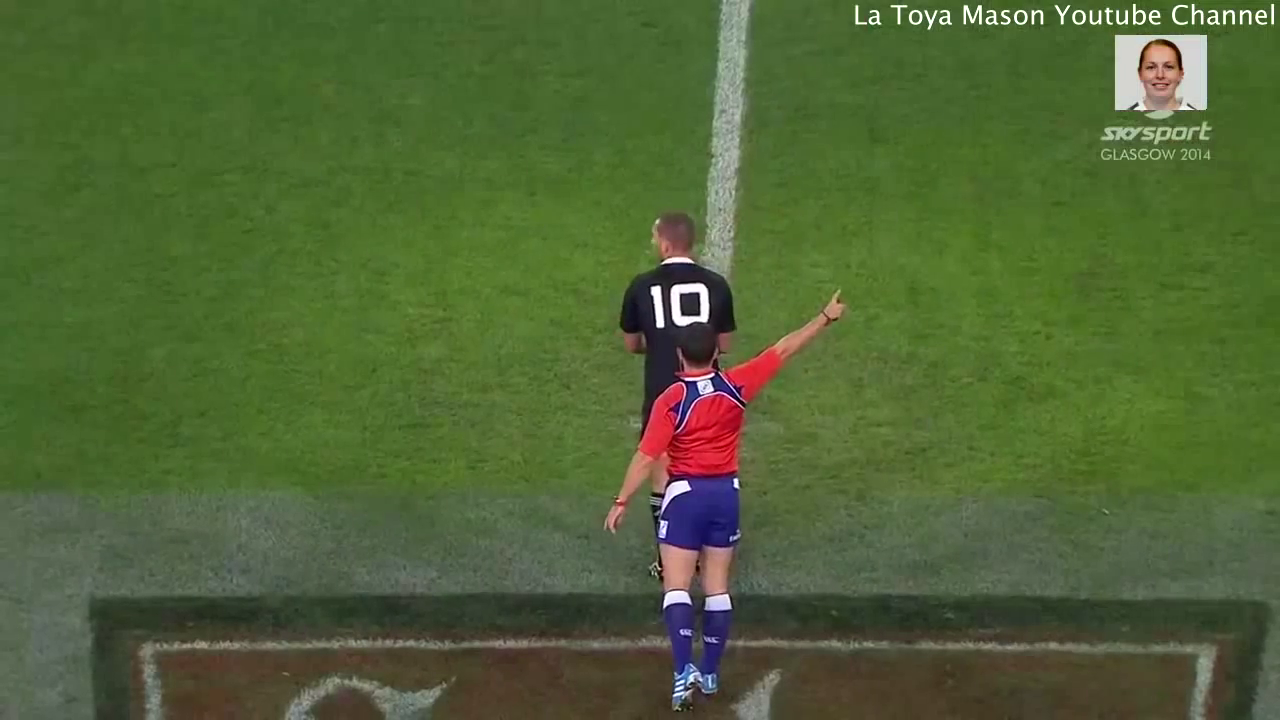player: (595, 279, 857, 720), (619, 199, 736, 377)
